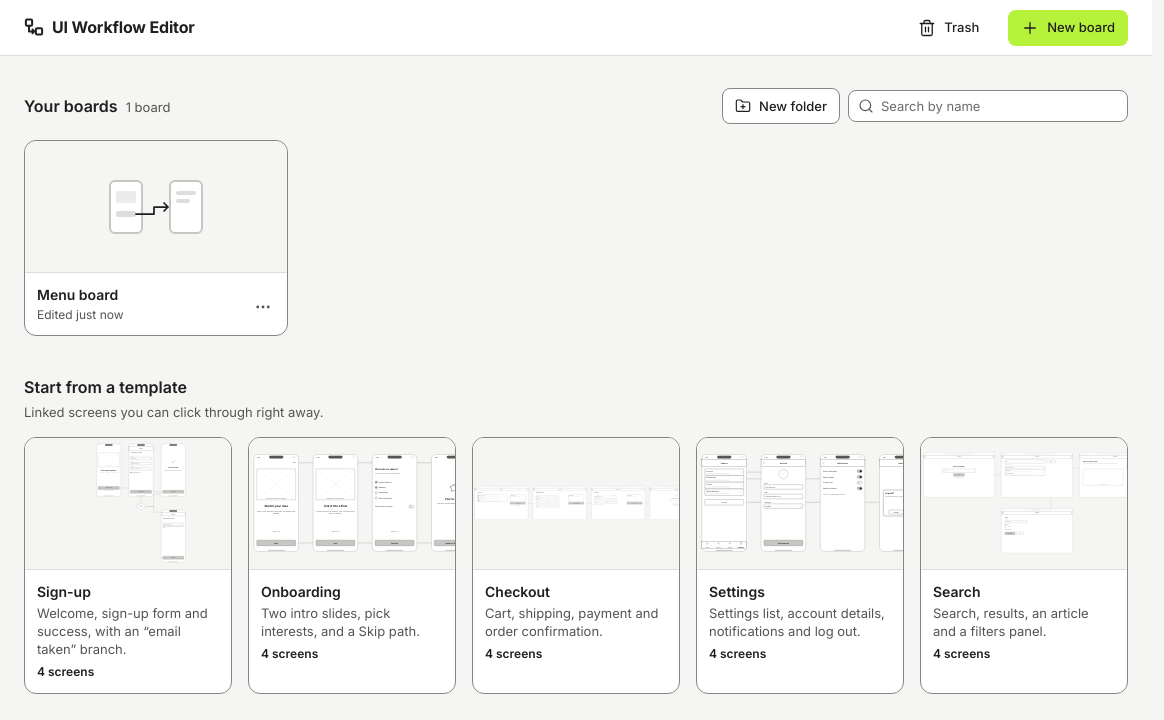
it: DashboardPage › renames from the board menu
The image size is (1164, 720).
Step 1. Press the mouse on the button named "Options for Menu board" → (263, 307), box [247, 291, 279, 323]
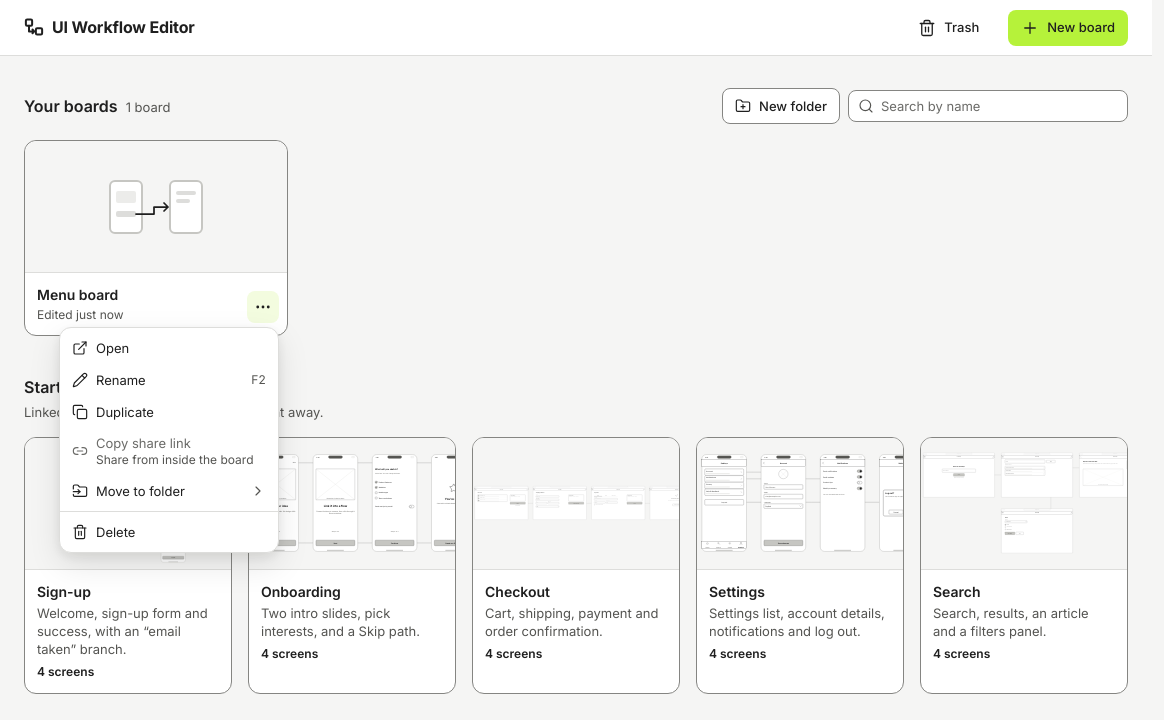
Step 2. Click the menu item "Rename F2" → (121, 380), box [72, 372, 266, 388]
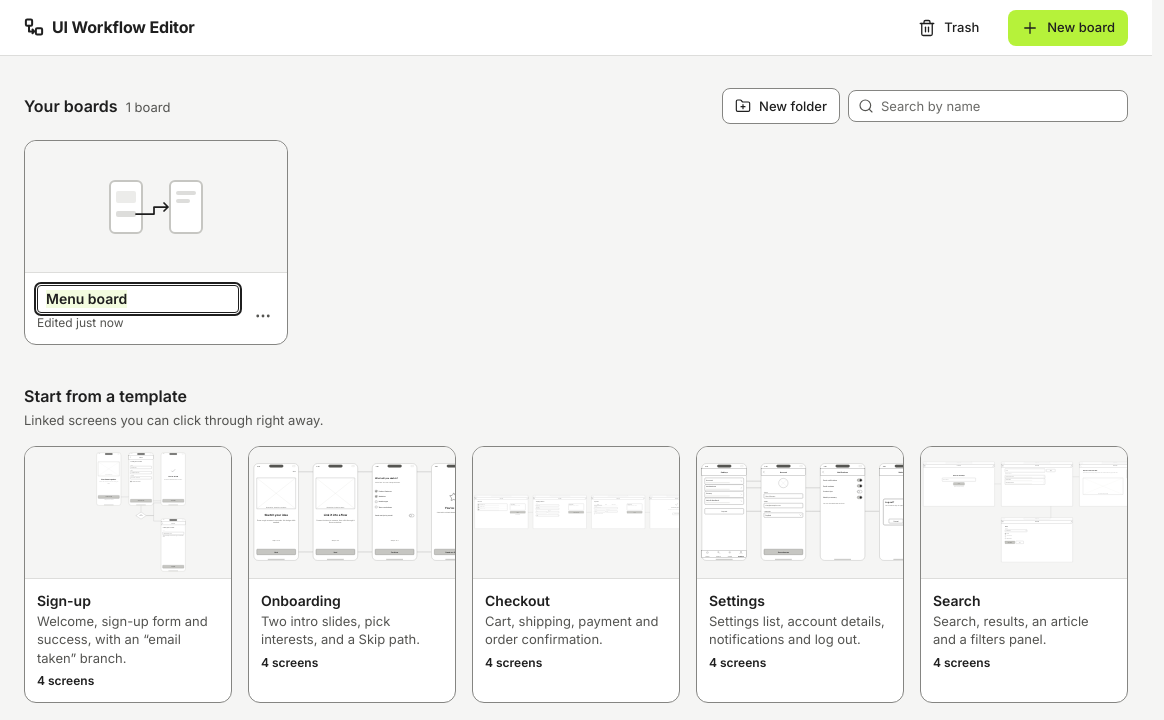
Step 3. Replace the text in the field named "Board name" with "Renamed via menu" → (138, 299), box [37, 285, 239, 313]
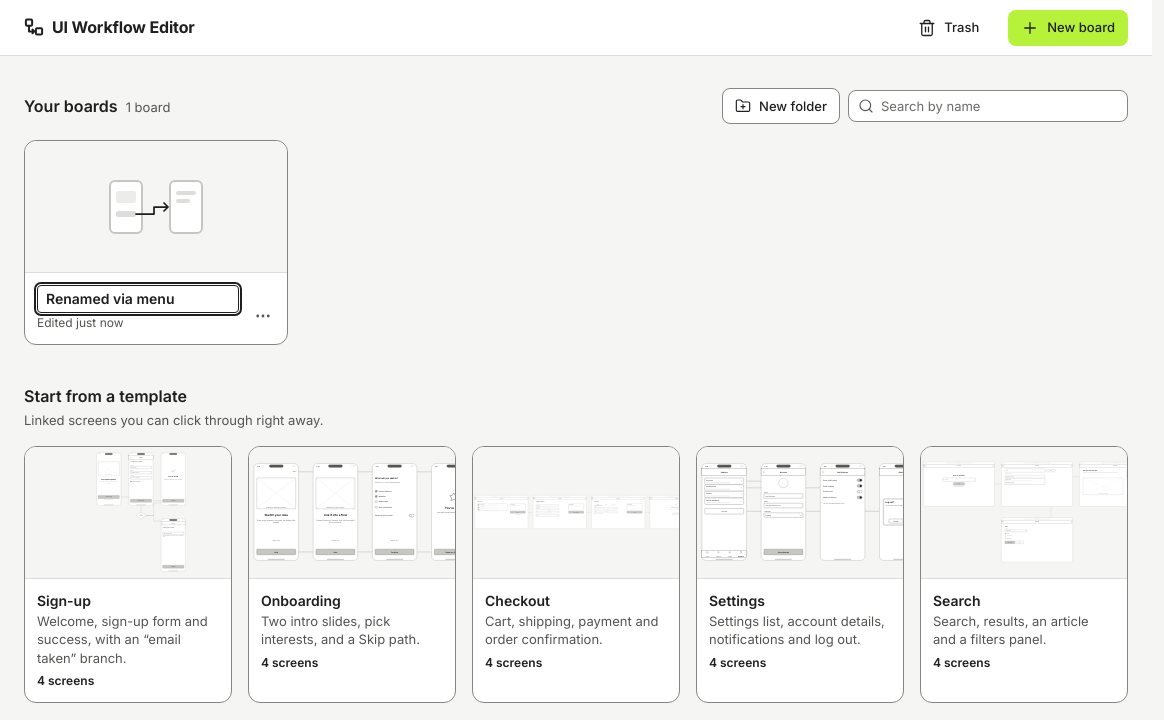
Step 4. Press Enter in the field named "Board name", box [37, 285, 239, 313]
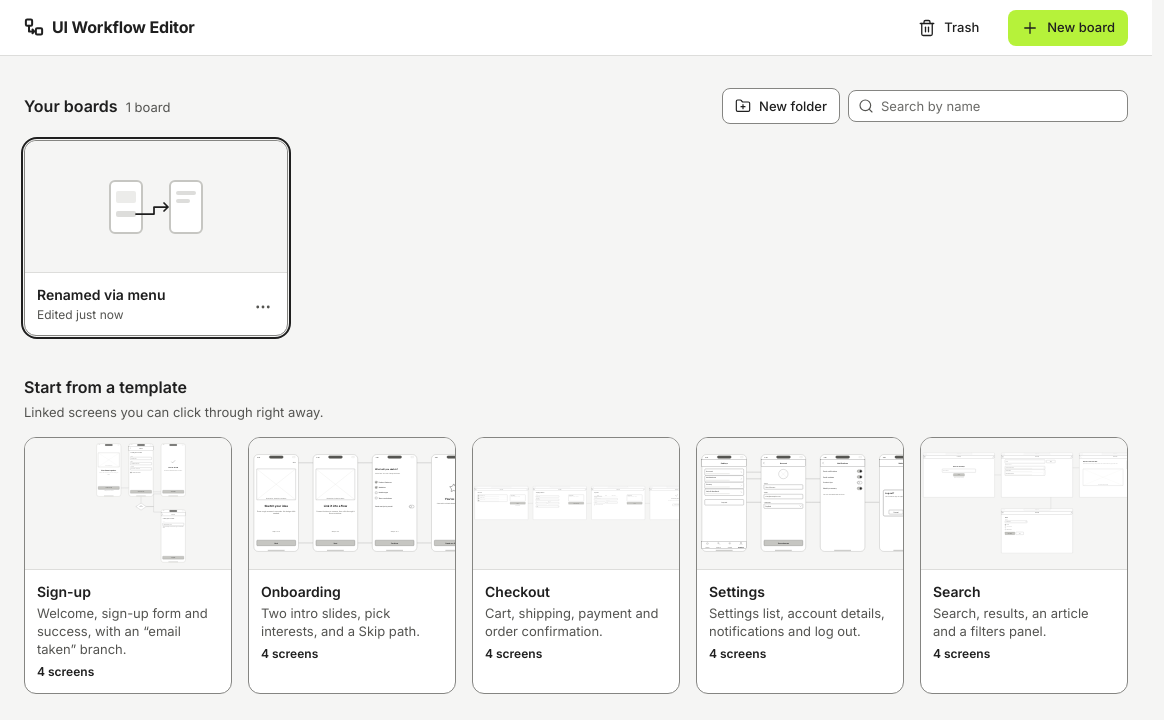
Expected: the text "Renamed via menu" is shown, [37, 286, 166, 303]
